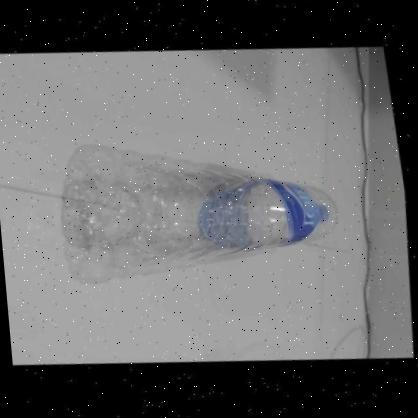bottle: (50, 157, 346, 288)
label: (245, 176, 332, 254)
